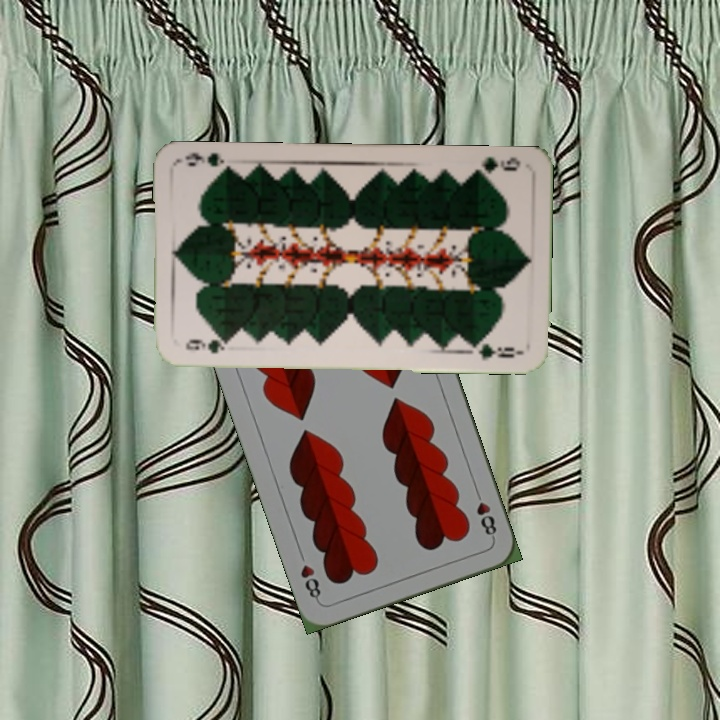G9: (468, 152, 523, 179), (181, 335, 233, 356)
H8: (470, 484, 499, 542)
